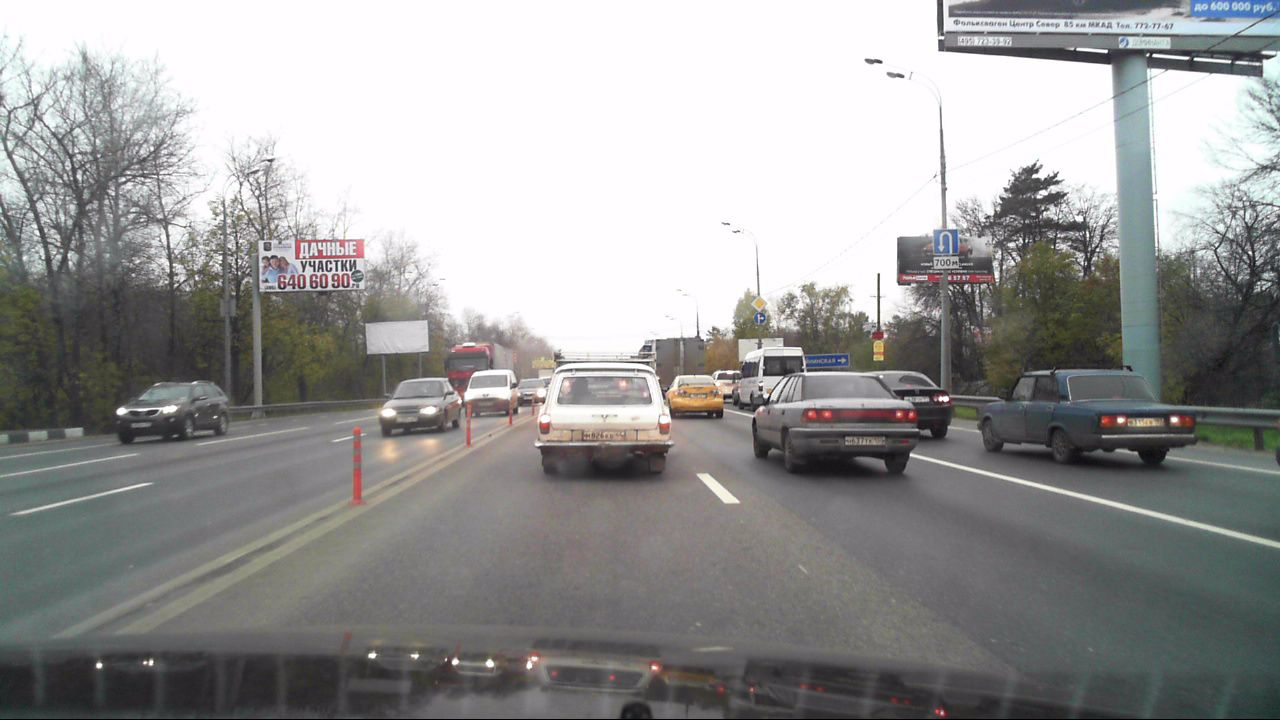U-turn: (934, 230, 958, 254)
